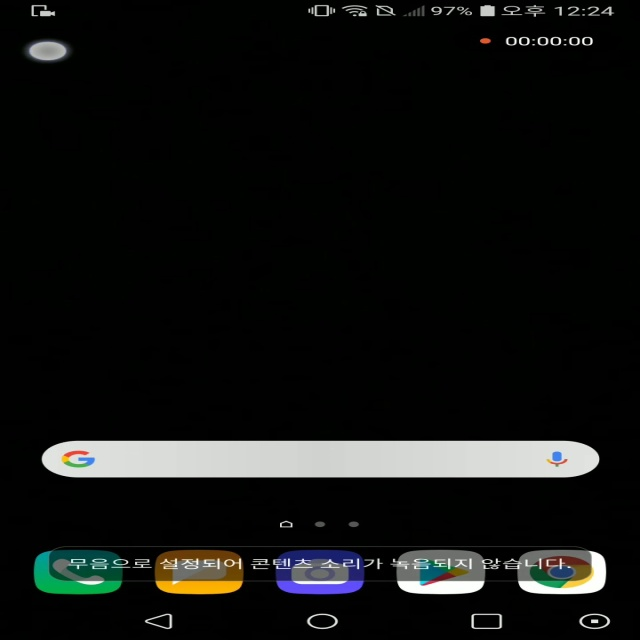Cursor: (25, 40, 70, 63)
